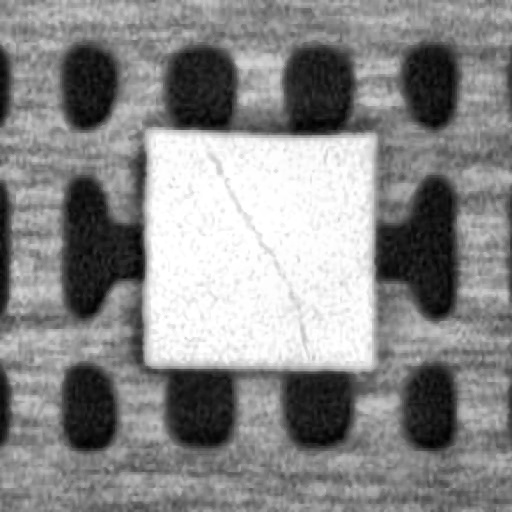DIE_CRACK: (206, 140, 308, 348)
